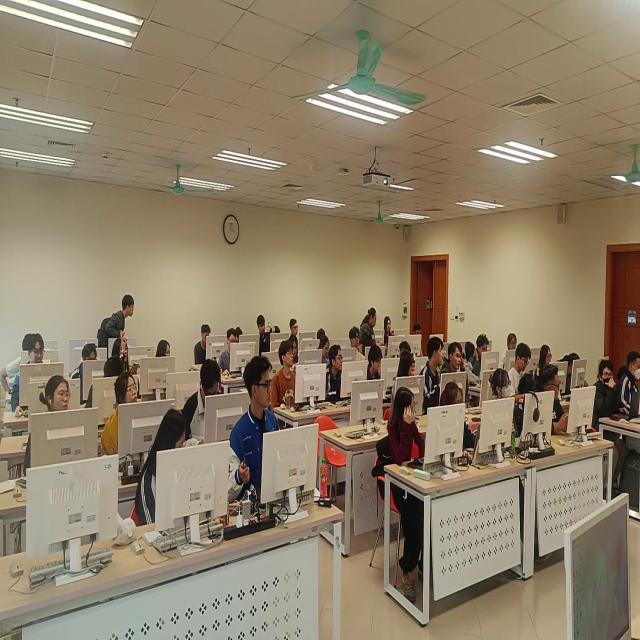raise_hand: (111, 331, 139, 377), (257, 316, 282, 354)
raise_head: (229, 357, 280, 505), (23, 375, 70, 479), (102, 375, 140, 459), (591, 357, 623, 430), (272, 342, 299, 408), (325, 345, 344, 406), (491, 368, 514, 402), (443, 341, 465, 374), (350, 326, 366, 363), (503, 332, 519, 369), (384, 315, 395, 345)
stand: (99, 295, 136, 352), (359, 307, 378, 348)
using_computer: (134, 408, 188, 528), (181, 360, 223, 448), (439, 380, 480, 455), (388, 386, 425, 467), (11, 335, 47, 415), (1, 333, 35, 399), (86, 357, 125, 408), (618, 349, 640, 418), (508, 342, 535, 397), (71, 344, 98, 394), (556, 352, 582, 387), (220, 329, 239, 374), (196, 324, 214, 365), (475, 334, 490, 379), (369, 347, 384, 383), (413, 323, 427, 355), (538, 343, 554, 370), (320, 337, 330, 362), (401, 339, 414, 356), (291, 338, 299, 365), (290, 317, 299, 337), (318, 327, 327, 340), (236, 327, 243, 341)
